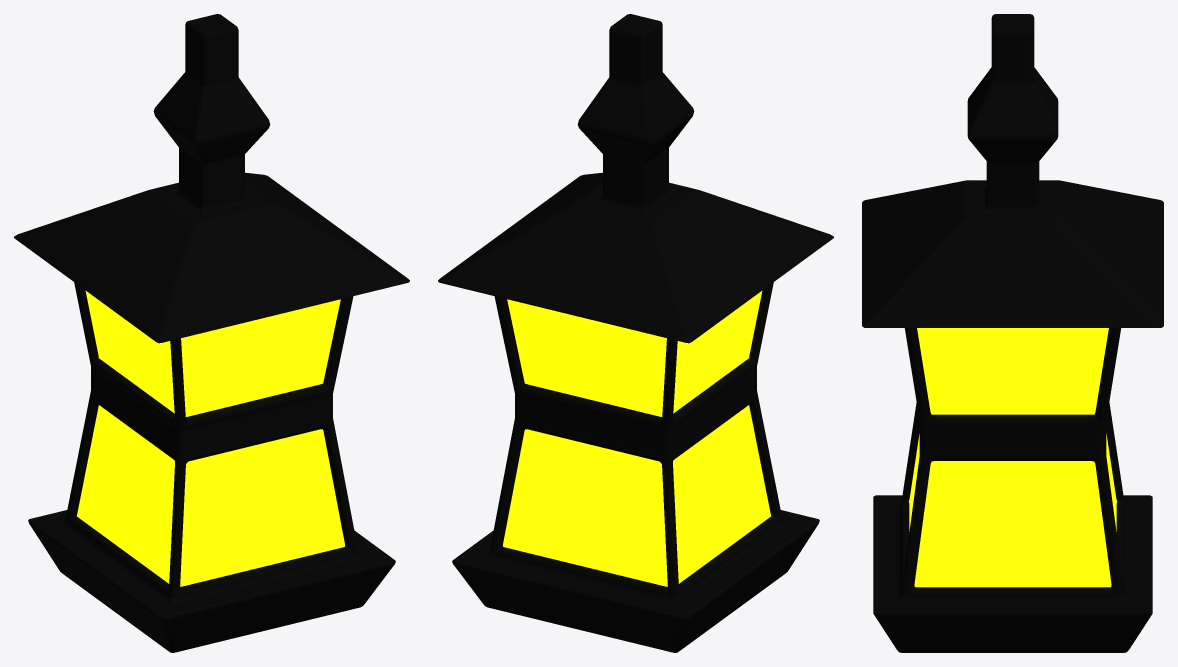
Rendered from Lanton.fbx.
The picture shows the model from 3 angles, left to right: view 1: azimuth 30°, elevation 25°; view 2: azimuth 150°, elevation 25°; view 3: azimuth 270°, elevation 25°; orthographic projection. The views are drawn at different scales.
Parts seen in each view (by area): view 1: Cube.080; view 2: Cube.080; view 3: Cube.080.
Boxes of the visible parts, box(x1,y1,x2,y2) form: Cube.080: box(14, 14, 409, 652); Cube.080: box(438, 14, 833, 652); Cube.080: box(862, 14, 1163, 652).
Bounding box in the file's own units: 25.81 × 55.16 × 25.81.
